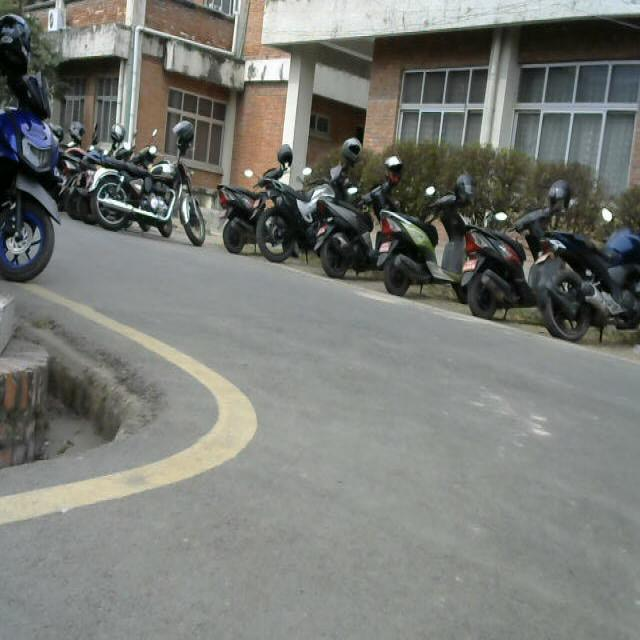Bike: (212, 162, 640, 348), (0, 13, 79, 291), (60, 119, 208, 251)
Buildings: (55, 0, 635, 194)
Road: (0, 218, 640, 628)
